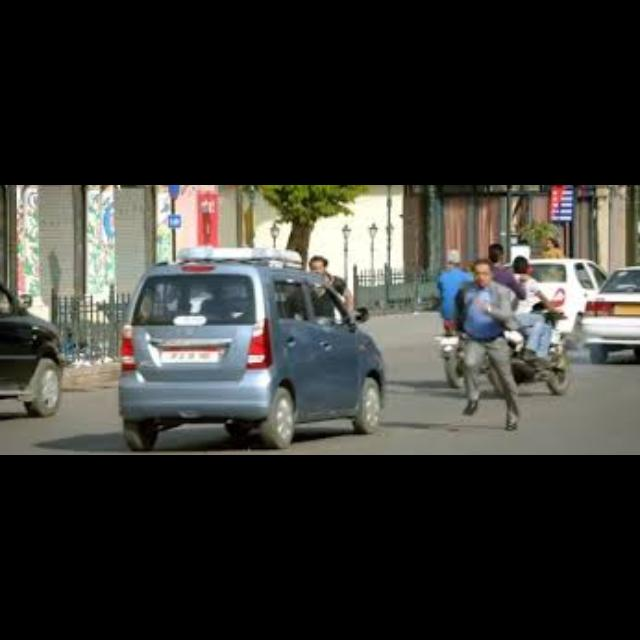number-plate: (164, 348, 219, 361), (612, 304, 638, 315)
vehicles: (117, 243, 383, 450), (2, 276, 65, 418), (581, 265, 640, 357)
